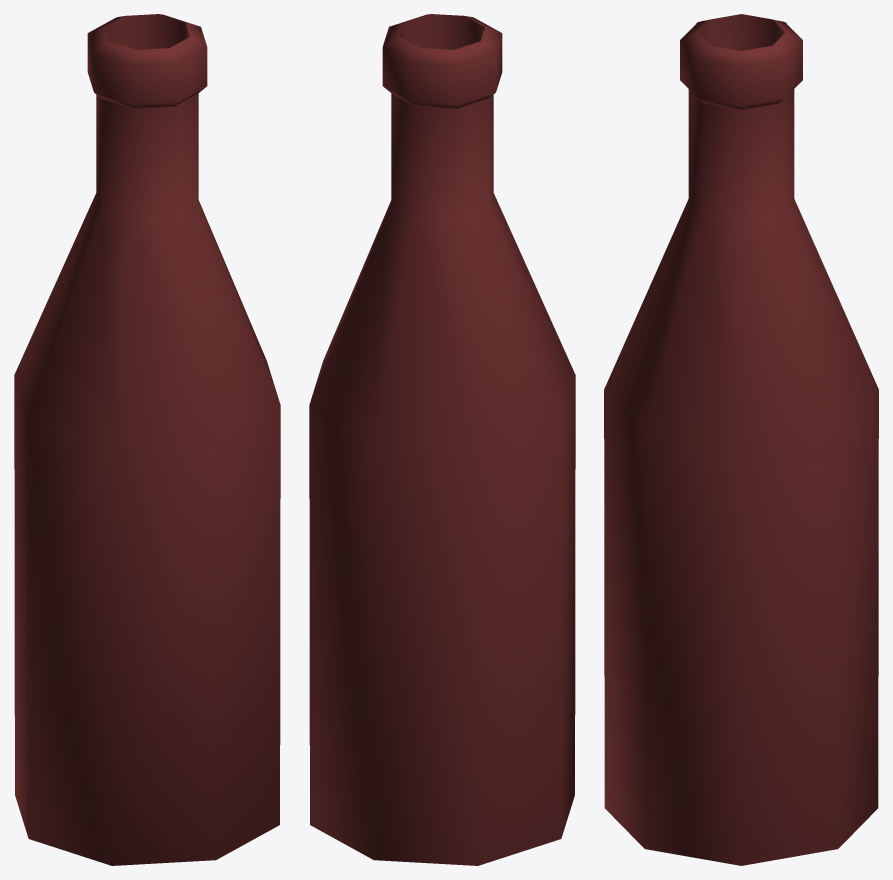
File: TRASH_Bottle.fbx
3 renders of one model, left to right at view 1: azimuth 30°, elevation 25°; view 2: azimuth 150°, elevation 25°; view 3: azimuth 270°, elevation 25°, orthographic.
Visible parts, largest first — view 1: TRASH_Bottle_Unbroken; view 2: TRASH_Bottle_Unbroken; view 3: TRASH_Bottle_Unbroken.
Boxes of the visible parts, x1,y1,x2,y2 form: TRASH_Bottle_Unbroken: [14, 14, 280, 865]; TRASH_Bottle_Unbroken: [309, 14, 575, 865]; TRASH_Bottle_Unbroken: [604, 14, 878, 865].
Size of the model in its own units: 30.45 by 94.83 by 30.45.
